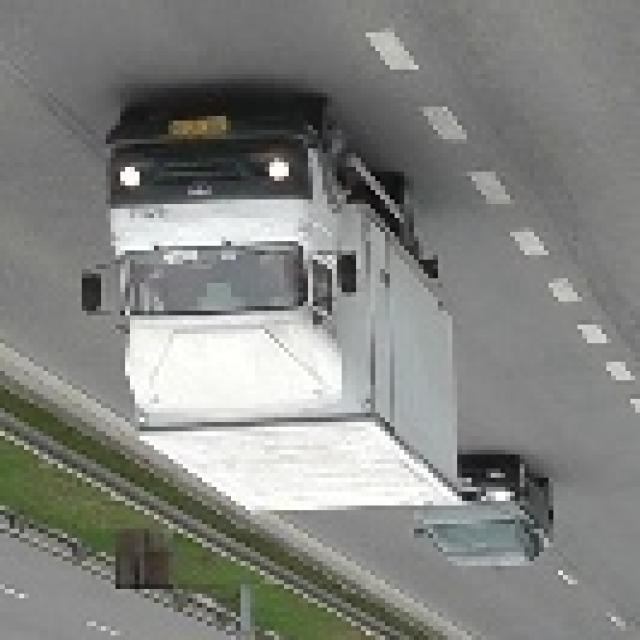truck: (82, 88, 462, 515)
